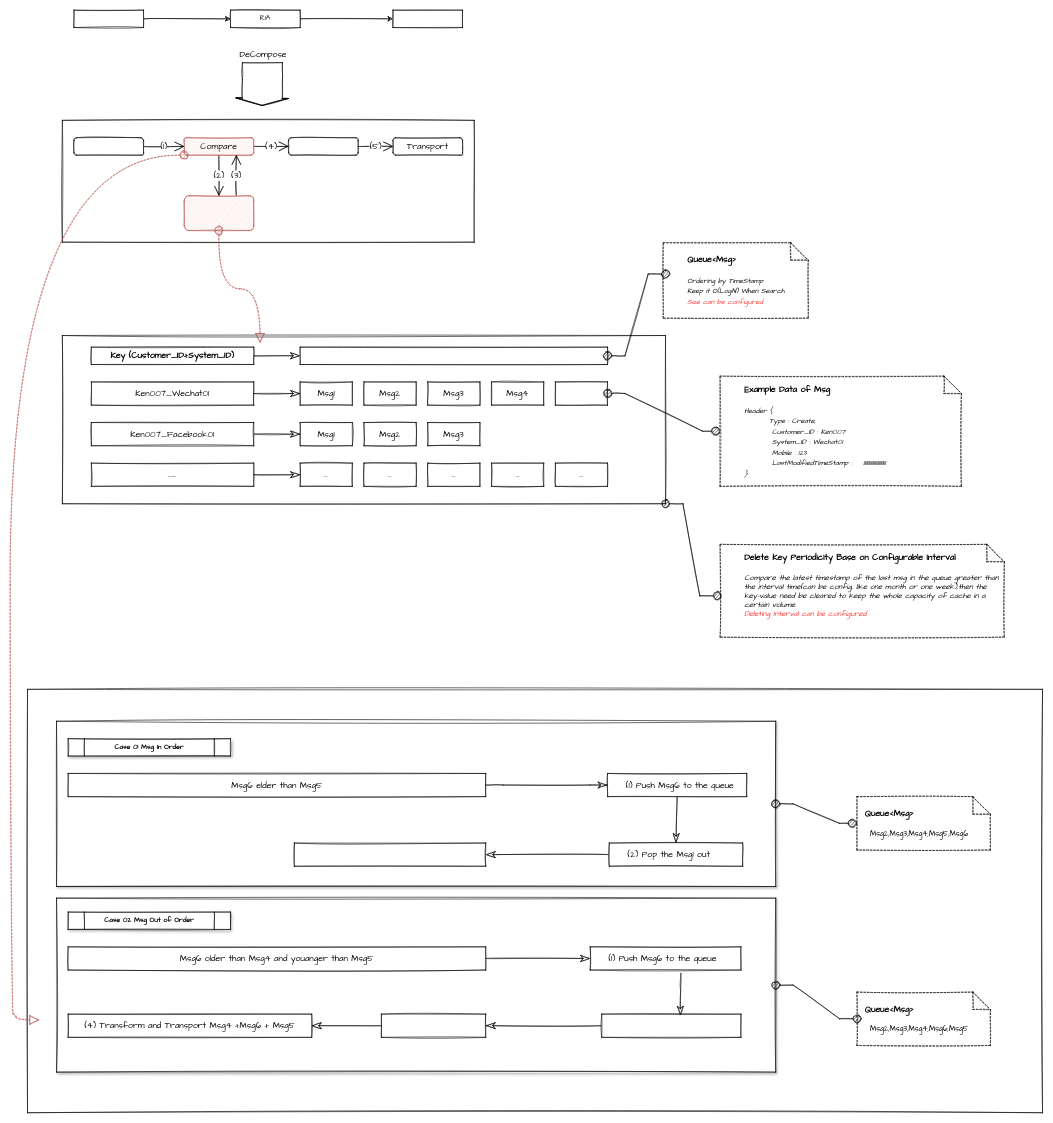
The diagram is 1053 pixels wide and 1123 high, and some of its shapes have lost their labels. Here are the shapes that lost their labels. From the top down, the centre of each, then its label:
At (x=108, y=19): "SB Queue".
At (x=427, y=19): "Pioneer".
At (x=108, y=146): "Read".
At (x=323, y=146): "Transform".
At (x=219, y=213): "Cache".
At (x=454, y=356): "Value (Queue<Msg>)".
At (x=581, y=393): "Msg5".
At (x=390, y=854): "(3) Transform + Transport Msg6 Only".
At (x=433, y=1025): "(3) Pop Msg1 out".
At (x=671, y=1025): "(2) Re-Ordering the queue".
